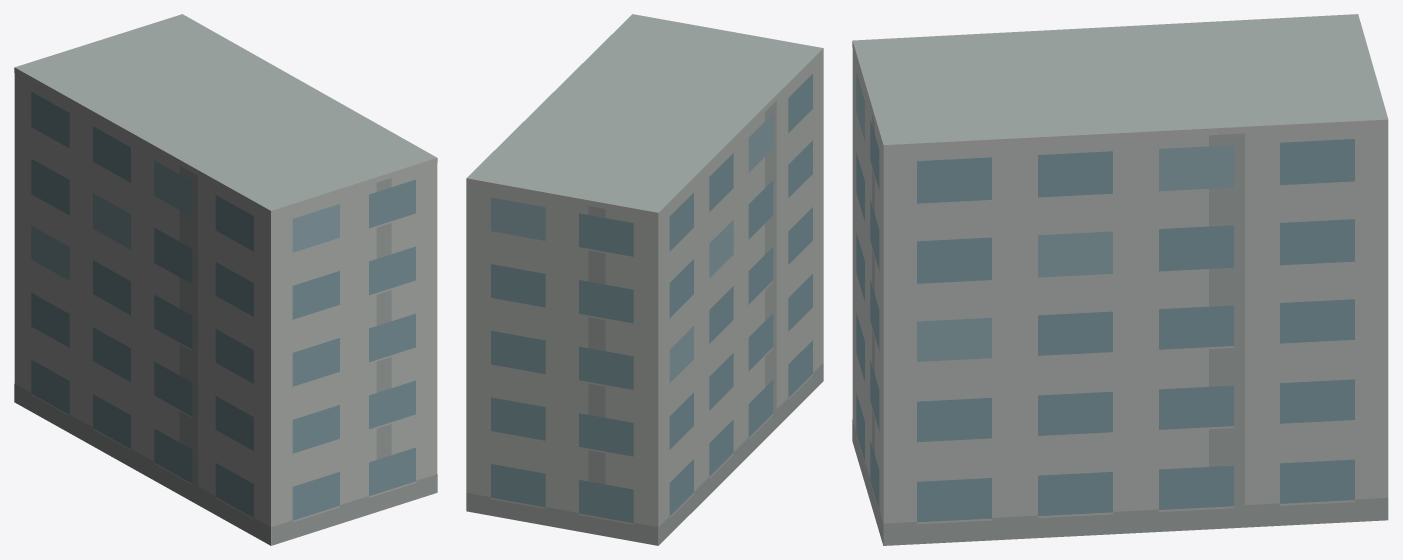
File: survey-upis-32628335.glb
The picture shows the model from 3 angles, left to right: view 1: azimuth 30°, elevation 25°; view 2: azimuth 150°, elevation 25°; view 3: azimuth 270°, elevation 25°; orthographic projection. The views are drawn at different scales.
Parts seen in each view (by area): view 1: survey-upis-32628335.tmp; view 2: survey-upis-32628335.tmp; view 3: survey-upis-32628335.tmp.
Boxes of the visible parts, bbox=[...] form: survey-upis-32628335.tmp: bbox=[14, 14, 437, 545]; survey-upis-32628335.tmp: bbox=[466, 14, 823, 545]; survey-upis-32628335.tmp: bbox=[852, 14, 1388, 545].
Size of the model in its own units: 10.25 by 14.6 by 17.71.
